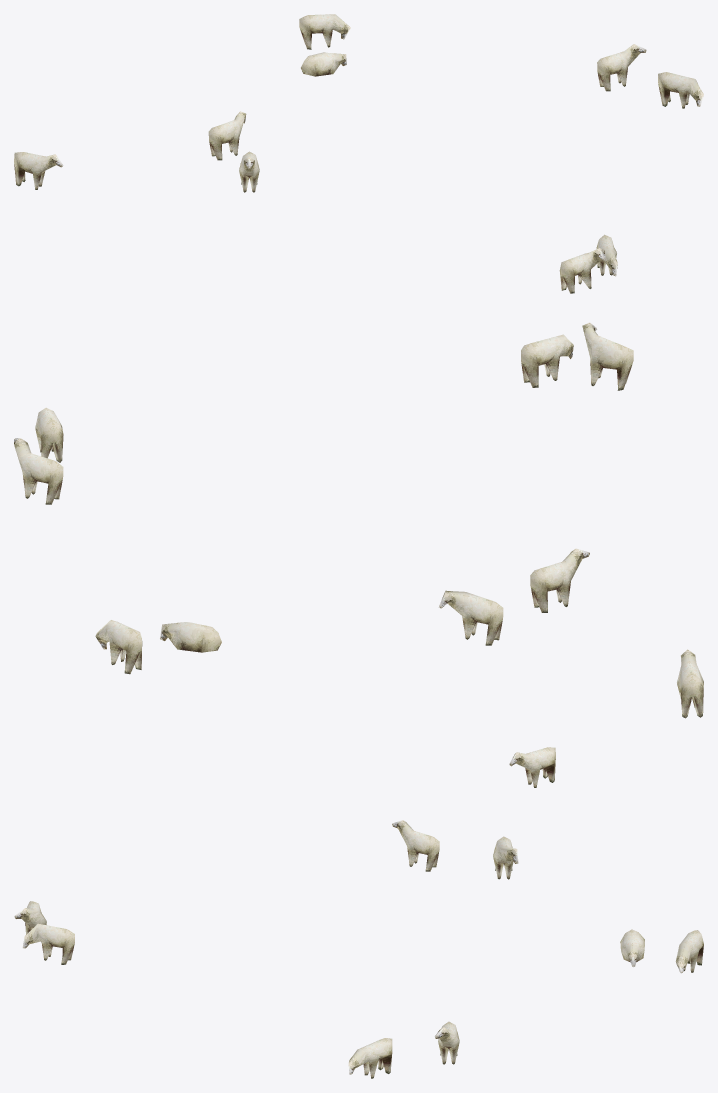
File: stage-alpi-p3-146.glb
The picture shows the model from 3 angles, top to bottom: view 1: azimuth 30°, elevation 25°; view 2: azimuth 150°, elevation 25°; view 3: azimuth 270°, elevation 25°; orthographic projection. The views are drawn at different scales.
Size of the model in its own units: 22.27 by 1.47 by 21.37.
Materials: 1 (1 with a texture image).
